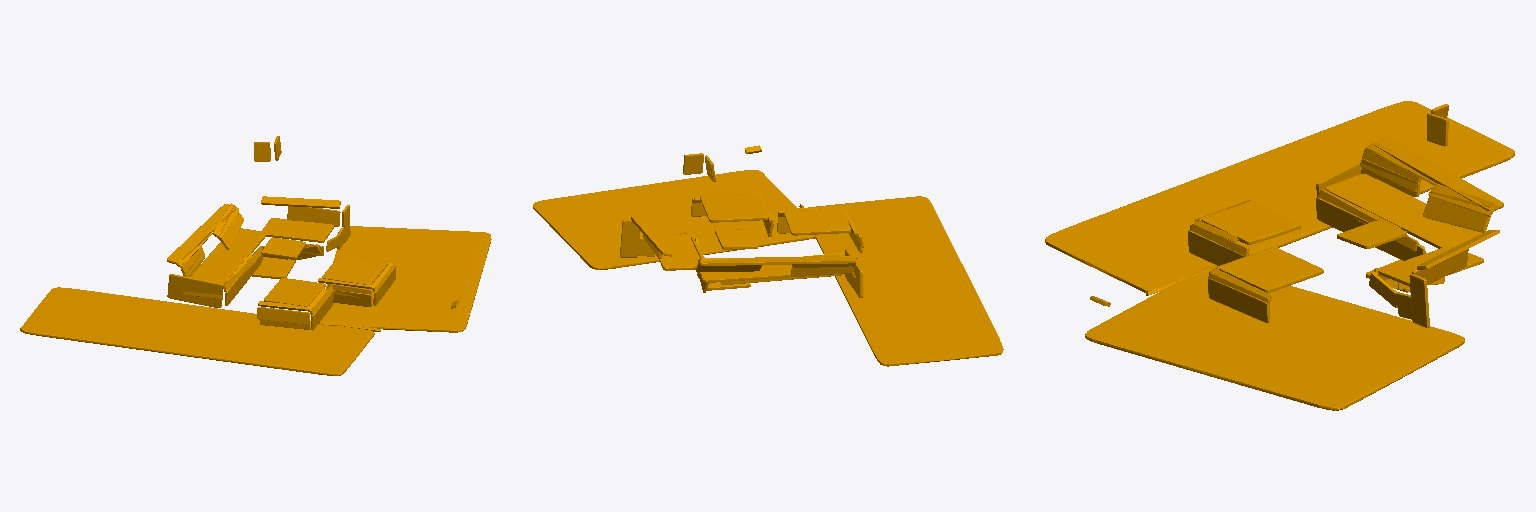
robot.urdf — scene:
<?xml version='1.0' encoding='utf-8'?>
<robot name="scene"><link name="scene_link"><visual><origin xyz="0.000000 0.000000 0.000000" rpy="0.000000 -0.000000 0.000000" /><geometry><mesh filename="part_000.obj" /></geometry></visual><collision><origin xyz="0.000000 0.000000 0.000000" rpy="0.000000 -0.000000 0.000000" /><geometry><mesh filename="part_000.obj" /></geometry></collision><visual><origin xyz="0.000000 0.000000 0.000000" rpy="0.000000 -0.000000 0.000000" /><geometry><mesh filename="part_001.obj" /></geometry></visual><collision><origin xyz="0.000000 0.000000 0.000000" rpy="0.000000 -0.000000 0.000000" /><geometry><mesh filename="part_001.obj" /></geometry></collision><visual><origin xyz="0.000000 0.000000 0.000000" rpy="0.000000 -0.000000 0.000000" /><geometry><mesh filename="part_002.obj" /></geometry></visual><collision><origin xyz="0.000000 0.000000 0.000000" rpy="0.000000 -0.000000 0.000000" /><geometry><mesh filename="part_002.obj" /></geometry></collision><visual><origin xyz="0.000000 0.000000 0.000000" rpy="0.000000 -0.000000 0.000000" /><geometry><mesh filename="part_003.obj" /></geometry></visual><collision><origin xyz="0.000000 0.000000 0.000000" rpy="0.000000 -0.000000 0.000000" /><geometry><mesh filename="part_003.obj" /></geometry></collision><visual><origin xyz="0.000000 0.000000 0.000000" rpy="0.000000 -0.000000 0.000000" /><geometry><mesh filename="part_004.obj" /></geometry></visual><collision><origin xyz="0.000000 0.000000 0.000000" rpy="0.000000 -0.000000 0.000000" /><geometry><mesh filename="part_004.obj" /></geometry></collision><visual><origin xyz="0.000000 0.000000 0.000000" rpy="0.000000 -0.000000 0.000000" /><geometry><mesh filename="part_005.obj" /></geometry></visual><collision><origin xyz="0.000000 0.000000 0.000000" rpy="0.000000 -0.000000 0.000000" /><geometry><mesh filename="part_005.obj" /></geometry></collision><visual><origin xyz="0.000000 0.000000 0.000000" rpy="0.000000 -0.000000 0.000000" /><geometry><mesh filename="part_006.obj" /></geometry></visual><collision><origin xyz="0.000000 0.000000 0.000000" rpy="0.000000 -0.000000 0.000000" /><geometry><mesh filename="part_006.obj" /></geometry></collision><visual><origin xyz="0.000000 0.000000 0.000000" rpy="0.000000 -0.000000 0.000000" /><geometry><mesh filename="part_007.obj" /></geometry></visual><collision><origin xyz="0.000000 0.000000 0.000000" rpy="0.000000 -0.000000 0.000000" /><geometry><mesh filename="part_007.obj" /></geometry></collision><visual><origin xyz="0.000000 0.000000 0.000000" rpy="0.000000 -0.000000 0.000000" /><geometry><mesh filename="part_008.obj" /></geometry></visual><collision><origin xyz="0.000000 0.000000 0.000000" rpy="0.000000 -0.000000 0.000000" /><geometry><mesh filename="part_008.obj" /></geometry></collision><visual><origin xyz="0.000000 0.000000 0.000000" rpy="0.000000 -0.000000 0.000000" /><geometry><mesh filename="part_009.obj" /></geometry></visual><collision><origin xyz="0.000000 0.000000 0.000000" rpy="0.000000 -0.000000 0.000000" /><geometry><mesh filename="part_009.obj" /></geometry></collision><visual><origin xyz="0.000000 0.000000 0.000000" rpy="0.000000 -0.000000 0.000000" /><geometry><mesh filename="part_010.obj" /></geometry></visual><collision><origin xyz="0.000000 0.000000 0.000000" rpy="0.000000 -0.000000 0.000000" /><geometry><mesh filename="part_010.obj" /></geometry></collision><visual><origin xyz="0.000000 0.000000 0.000000" rpy="0.000000 -0.000000 0.000000" /><geometry><mesh filename="part_011.obj" /></geometry></visual><collision><origin xyz="0.000000 0.000000 0.000000" rpy="0.000000 -0.000000 0.000000" /><geometry><mesh filename="part_011.obj" /></geometry></collision><visual><origin xyz="0.000000 0.000000 0.000000" rpy="0.000000 -0.000000 0.000000" /><geometry><mesh filename="part_012.obj" /></geometry></visual><collision><origin xyz="0.000000 0.000000 0.000000" rpy="0.000000 -0.000000 0.000000" /><geometry><mesh filename="part_012.obj" /></geometry></collision><visual><origin xyz="0.000000 0.000000 0.000000" rpy="0.000000 -0.000000 0.000000" /><geometry><mesh filename="part_013.obj" /></geometry></visual><collision><origin xyz="0.000000 0.000000 0.000000" rpy="0.000000 -0.000000 0.000000" /><geometry><mesh filename="part_013.obj" /></geometry></collision><visual><origin xyz="0.000000 0.000000 0.000000" rpy="0.000000 -0.000000 0.000000" /><geometry><mesh filename="part_014.obj" /></geometry></visual><collision><origin xyz="0.000000 0.000000 0.000000" rpy="0.000000 -0.000000 0.000000" /><geometry><mesh filename="part_014.obj" /></geometry></collision><visual><origin xyz="0.000000 0.000000 0.000000" rpy="0.000000 -0.000000 0.000000" /><geometry><mesh filename="part_015.obj" /></geometry></visual><collision><origin xyz="0.000000 0.000000 0.000000" rpy="0.000000 -0.000000 0.000000" /><geometry><mesh filename="part_015.obj" /></geometry></collision><visual><origin xyz="0.000000 0.000000 0.000000" rpy="0.000000 -0.000000 0.000000" /><geometry><mesh filename="part_016.obj" /></geometry></visual><collision><origin xyz="0.000000 0.000000 0.000000" rpy="0.000000 -0.000000 0.000000" /><geometry><mesh filename="part_016.obj" /></geometry></collision><visual><origin xyz="0.000000 0.000000 0.000000" rpy="0.000000 -0.000000 0.000000" /><geometry><mesh filename="part_017.obj" /></geometry></visual><collision><origin xyz="0.000000 0.000000 0.000000" rpy="0.000000 -0.000000 0.000000" /><geometry><mesh filename="part_017.obj" /></geometry></collision><visual><origin xyz="0.000000 0.000000 0.000000" rpy="0.000000 -0.000000 0.000000" /><geometry><mesh filename="part_018.obj" /></geometry></visual><collision><origin xyz="0.000000 0.000000 0.000000" rpy="0.000000 -0.000000 0.000000" /><geometry><mesh filename="part_018.obj" /></geometry></collision><visual><origin xyz="0.000000 0.000000 0.000000" rpy="0.000000 -0.000000 0.000000" /><geometry><mesh filename="part_019.obj" /></geometry></visual><collision><origin xyz="0.000000 0.000000 0.000000" rpy="0.000000 -0.000000 0.000000" /><geometry><mesh filename="part_019.obj" /></geometry></collision><visual><origin xyz="0.000000 0.000000 0.000000" rpy="0.000000 -0.000000 0.000000" /><geometry><mesh filename="part_020.obj" /></geometry></visual><collision><origin xyz="0.000000 0.000000 0.000000" rpy="0.000000 -0.000000 0.000000" /><geometry><mesh filename="part_020.obj" /></geometry></collision><visual><origin xyz="0.000000 0.000000 0.000000" rpy="0.000000 -0.000000 0.000000" /><geometry><mesh filename="part_021.obj" /></geometry></visual><collision><origin xyz="0.000000 0.000000 0.000000" rpy="0.000000 -0.000000 0.000000" /><geometry><mesh filename="part_021.obj" /></geometry></collision><visual><origin xyz="0.000000 0.000000 0.000000" rpy="0.000000 -0.000000 0.000000" /><geometry><mesh filename="part_022.obj" /></geometry></visual><collision><origin xyz="0.000000 0.000000 0.000000" rpy="0.000000 -0.000000 0.000000" /><geometry><mesh filename="part_022.obj" /></geometry></collision><visual><origin xyz="0.000000 0.000000 0.000000" rpy="0.000000 -0.000000 0.000000" /><geometry><mesh filename="part_023.obj" /></geometry></visual><collision><origin xyz="0.000000 0.000000 0.000000" rpy="0.000000 -0.000000 0.000000" /><geometry><mesh filename="part_023.obj" /></geometry></collision><visual><origin xyz="0.000000 0.000000 0.000000" rpy="0.000000 -0.000000 0.000000" /><geometry><mesh filename="part_024.obj" /></geometry></visual><collision><origin xyz="0.000000 0.000000 0.000000" rpy="0.000000 -0.000000 0.000000" /><geometry><mesh filename="part_024.obj" /></geometry></collision><visual><origin xyz="0.000000 0.000000 0.000000" rpy="0.000000 -0.000000 0.000000" /><geometry><mesh filename="part_025.obj" /></geometry></visual><collision><origin xyz="0.000000 0.000000 0.000000" rpy="0.000000 -0.000000 0.000000" /><geometry><mesh filename="part_025.obj" /></geometry></collision><visual><origin xyz="0.000000 0.000000 0.000000" rpy="0.000000 -0.000000 0.000000" /><geometry><mesh filename="part_026.obj" /></geometry></visual><collision><origin xyz="0.000000 0.000000 0.000000" rpy="0.000000 -0.000000 0.000000" /><geometry><mesh filename="part_026.obj" /></geometry></collision><visual><origin xyz="0.000000 0.000000 0.000000" rpy="0.000000 -0.000000 0.000000" /><geometry><mesh filename="part_027.obj" /></geometry></visual><collision><origin xyz="0.000000 0.000000 0.000000" rpy="0.000000 -0.000000 0.000000" /><geometry><mesh filename="part_027.obj" /></geometry></collision><visual><origin xyz="0.000000 0.000000 0.000000" rpy="0.000000 -0.000000 0.000000" /><geometry><mesh filename="part_028.obj" /></geometry></visual><collision><origin xyz="0.000000 0.000000 0.000000" rpy="0.000000 -0.000000 0.000000" /><geometry><mesh filename="part_028.obj" /></geometry></collision><visual><origin xyz="0.000000 0.000000 0.000000" rpy="0.000000 -0.000000 0.000000" /><geometry><mesh filename="part_029.obj" /></geometry></visual><collision><origin xyz="0.000000 0.000000 0.000000" rpy="0.000000 -0.000000 0.000000" /><geometry><mesh filename="part_029.obj" /></geometry></collision><visual><origin xyz="0.000000 0.000000 0.000000" rpy="0.000000 -0.000000 0.000000" /><geometry><mesh filename="part_030.obj" /></geometry></visual><collision><origin xyz="0.000000 0.000000 0.000000" rpy="0.000000 -0.000000 0.000000" /><geometry><mesh filename="part_030.obj" /></geometry></collision><visual><origin xyz="0.000000 0.000000 0.000000" rpy="0.000000 -0.000000 0.000000" /><geometry><mesh filename="part_031.obj" /></geometry></visual><collision><origin xyz="0.000000 0.000000 0.000000" rpy="0.000000 -0.000000 0.000000" /><geometry><mesh filename="part_031.obj" /></geometry></collision><visual><origin xyz="0.000000 0.000000 0.000000" rpy="0.000000 -0.000000 0.000000" /><geometry><mesh filename="part_032.obj" /></geometry></visual><collision><origin xyz="0.000000 0.000000 0.000000" rpy="0.000000 -0.000000 0.000000" /><geometry><mesh filename="part_032.obj" /></geometry></collision><visual><origin xyz="0.000000 0.000000 0.000000" rpy="0.000000 -0.000000 0.000000" /><geometry><mesh filename="part_033.obj" /></geometry></visual><collision><origin xyz="0.000000 0.000000 0.000000" rpy="0.000000 -0.000000 0.000000" /><geometry><mesh filename="part_033.obj" /></geometry></collision><visual><origin xyz="0.000000 0.000000 0.000000" rpy="0.000000 -0.000000 0.000000" /><geometry><mesh filename="part_034.obj" /></geometry></visual><collision><origin xyz="0.000000 0.000000 0.000000" rpy="0.000000 -0.000000 0.000000" /><geometry><mesh filename="part_034.obj" /></geometry></collision><visual><origin xyz="0.000000 0.000000 0.000000" rpy="0.000000 -0.000000 0.000000" /><geometry><mesh filename="part_035.obj" /></geometry></visual><collision><origin xyz="0.000000 0.000000 0.000000" rpy="0.000000 -0.000000 0.000000" /><geometry><mesh filename="part_035.obj" /></geometry></collision><visual><origin xyz="0.000000 0.000000 0.000000" rpy="0.000000 -0.000000 0.000000" /><geometry><mesh filename="part_036.obj" /></geometry></visual><collision><origin xyz="0.000000 0.000000 0.000000" rpy="0.000000 -0.000000 0.000000" /><geometry><mesh filename="part_036.obj" /></geometry></collision><visual><origin xyz="0.000000 0.000000 0.000000" rpy="0.000000 -0.000000 0.000000" /><geometry><mesh filename="part_037.obj" /></geometry></visual><collision><origin xyz="0.000000 0.000000 0.000000" rpy="0.000000 -0.000000 0.000000" /><geometry><mesh filename="part_037.obj" /></geometry></collision><visual><origin xyz="0.000000 0.000000 0.000000" rpy="0.000000 -0.000000 0.000000" /><geometry><mesh filename="part_038.obj" /></geometry></visual><collision><origin xyz="0.000000 0.000000 0.000000" rpy="0.000000 -0.000000 0.000000" /><geometry><mesh filename="part_038.obj" /></geometry></collision><visual><origin xyz="0.000000 0.000000 0.000000" rpy="0.000000 -0.000000 0.000000" /><geometry><mesh filename="part_039.obj" /></geometry></visual><collision><origin xyz="0.000000 0.000000 0.000000" rpy="0.000000 -0.000000 0.000000" /><geometry><mesh filename="part_039.obj" /></geometry></collision><visual><origin xyz="0.000000 0.000000 0.000000" rpy="0.000000 -0.000000 0.000000" /><geometry><mesh filename="part_040.obj" /></geometry></visual><collision><origin xyz="0.000000 0.000000 0.000000" rpy="0.000000 -0.000000 0.000000" /><geometry><mesh filename="part_040.obj" /></geometry></collision><visual><origin xyz="0.000000 0.000000 0.000000" rpy="0.000000 -0.000000 0.000000" /><geometry><mesh filename="part_041.obj" /></geometry></visual><collision><origin xyz="0.000000 0.000000 0.000000" rpy="0.000000 -0.000000 0.000000" /><geometry><mesh filename="part_041.obj" /></geometry></collision><visual><origin xyz="0.000000 0.000000 0.000000" rpy="0.000000 -0.000000 0.000000" /><geometry><mesh filename="part_042.obj" /></geometry></visual><collision><origin xyz="0.000000 0.000000 0.000000" rpy="0.000000 -0.000000 0.000000" /><geometry><mesh filename="part_042.obj" /></geometry></collision><visual><origin xyz="0.000000 0.000000 0.000000" rpy="0.000000 -0.000000 0.000000" /><geometry><mesh filename="part_043.obj" /></geometry></visual><collision><origin xyz="0.000000 0.000000 0.000000" rpy="0.000000 -0.000000 0.000000" /><geometry><mesh filename="part_043.obj" /></geometry></collision><visual><origin xyz="0.000000 0.000000 0.000000" rpy="0.000000 -0.000000 0.000000" /><geometry><mesh filename="part_044.obj" /></geometry></visual><collision><origin xyz="0.000000 0.000000 0.000000" rpy="0.000000 -0.000000 0.000000" /><geometry><mesh filename="part_044.obj" /></geometry></collision><visual><origin xyz="0.000000 0.000000 0.000000" rpy="0.000000 -0.000000 0.000000" /><geometry><mesh filename="part_045.obj" /></geometry></visual><collision><origin xyz="0.000000 0.000000 0.000000" rpy="0.000000 -0.000000 0.000000" /><geometry><mesh filename="part_045.obj" /></geometry></collision></link></robot>

--- Facts derived from the render (not from the file) ---
3 views of the same robot in one strip: view 1: azimuth 30°, elevation 25°; view 2: azimuth 150°, elevation 25°; view 3: azimuth 270°, elevation 25° (orthographic).
Robot: scene — 1 links, 0 joints (none); root link scene_link; default pose: all joints at 0.
Links seen in each view (by area): view 1: scene_link; view 2: scene_link; view 3: scene_link.
Link boxes in pixels (x1,y1,x2,y2): scene_link: [20, 136, 491, 375]; scene_link: [533, 145, 1003, 366]; scene_link: [1045, 101, 1514, 410].
Bounding box of the posed robot: 7.62 × 4.79 × 2.01 m (x, y, z).
46 mesh visuals loaded from 46 distinct referenced files (46 OBJ).